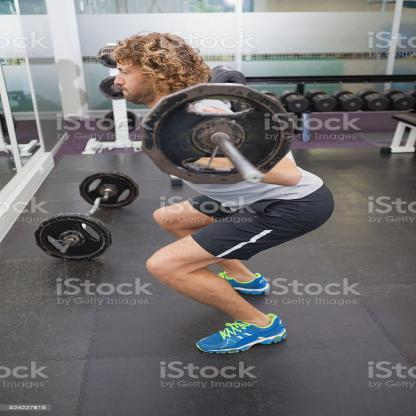barbell: (140, 82, 294, 184), (33, 168, 143, 263)
